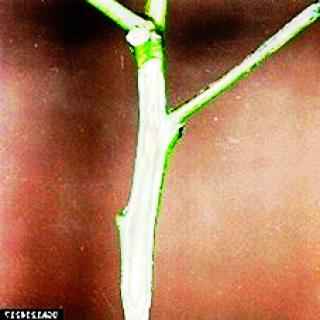wilt: (138, 64, 162, 190), (163, 162, 164, 240)
